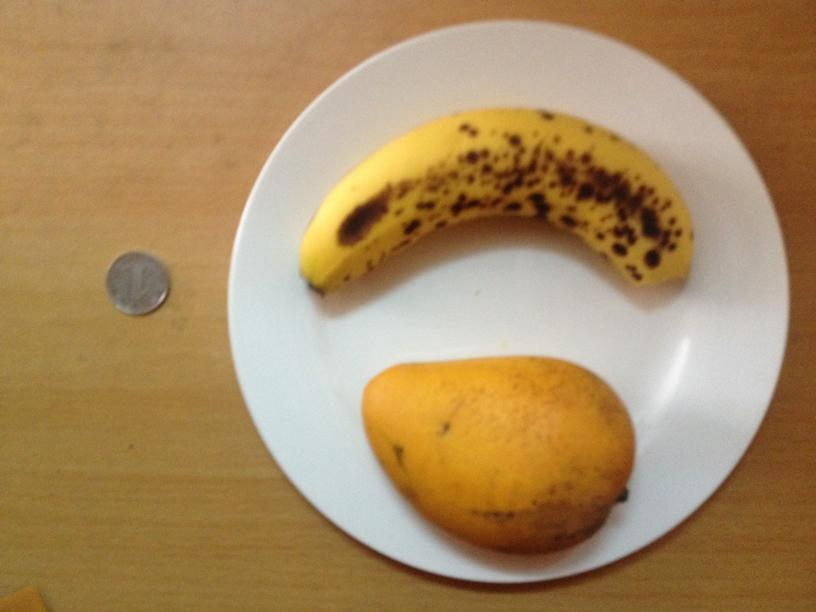banana: (301, 108, 692, 294)
coin: (105, 249, 168, 314)
mango: (363, 358, 634, 553)
